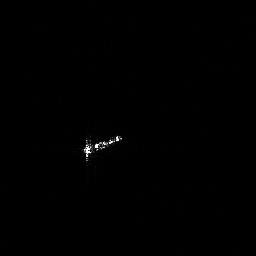ship: (83, 136, 123, 154)
